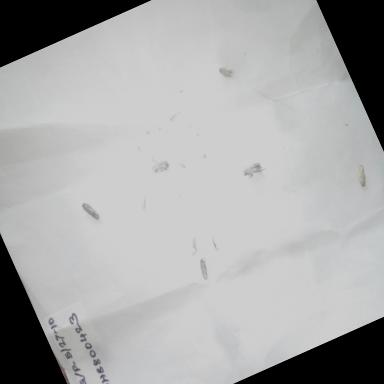pbw: (76, 190, 108, 228), (238, 154, 272, 186), (192, 250, 220, 286), (213, 58, 242, 89), (348, 159, 374, 193), (148, 156, 176, 182)
